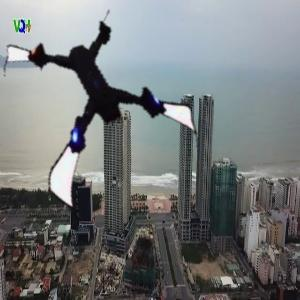drone: (15, 13, 199, 197)
